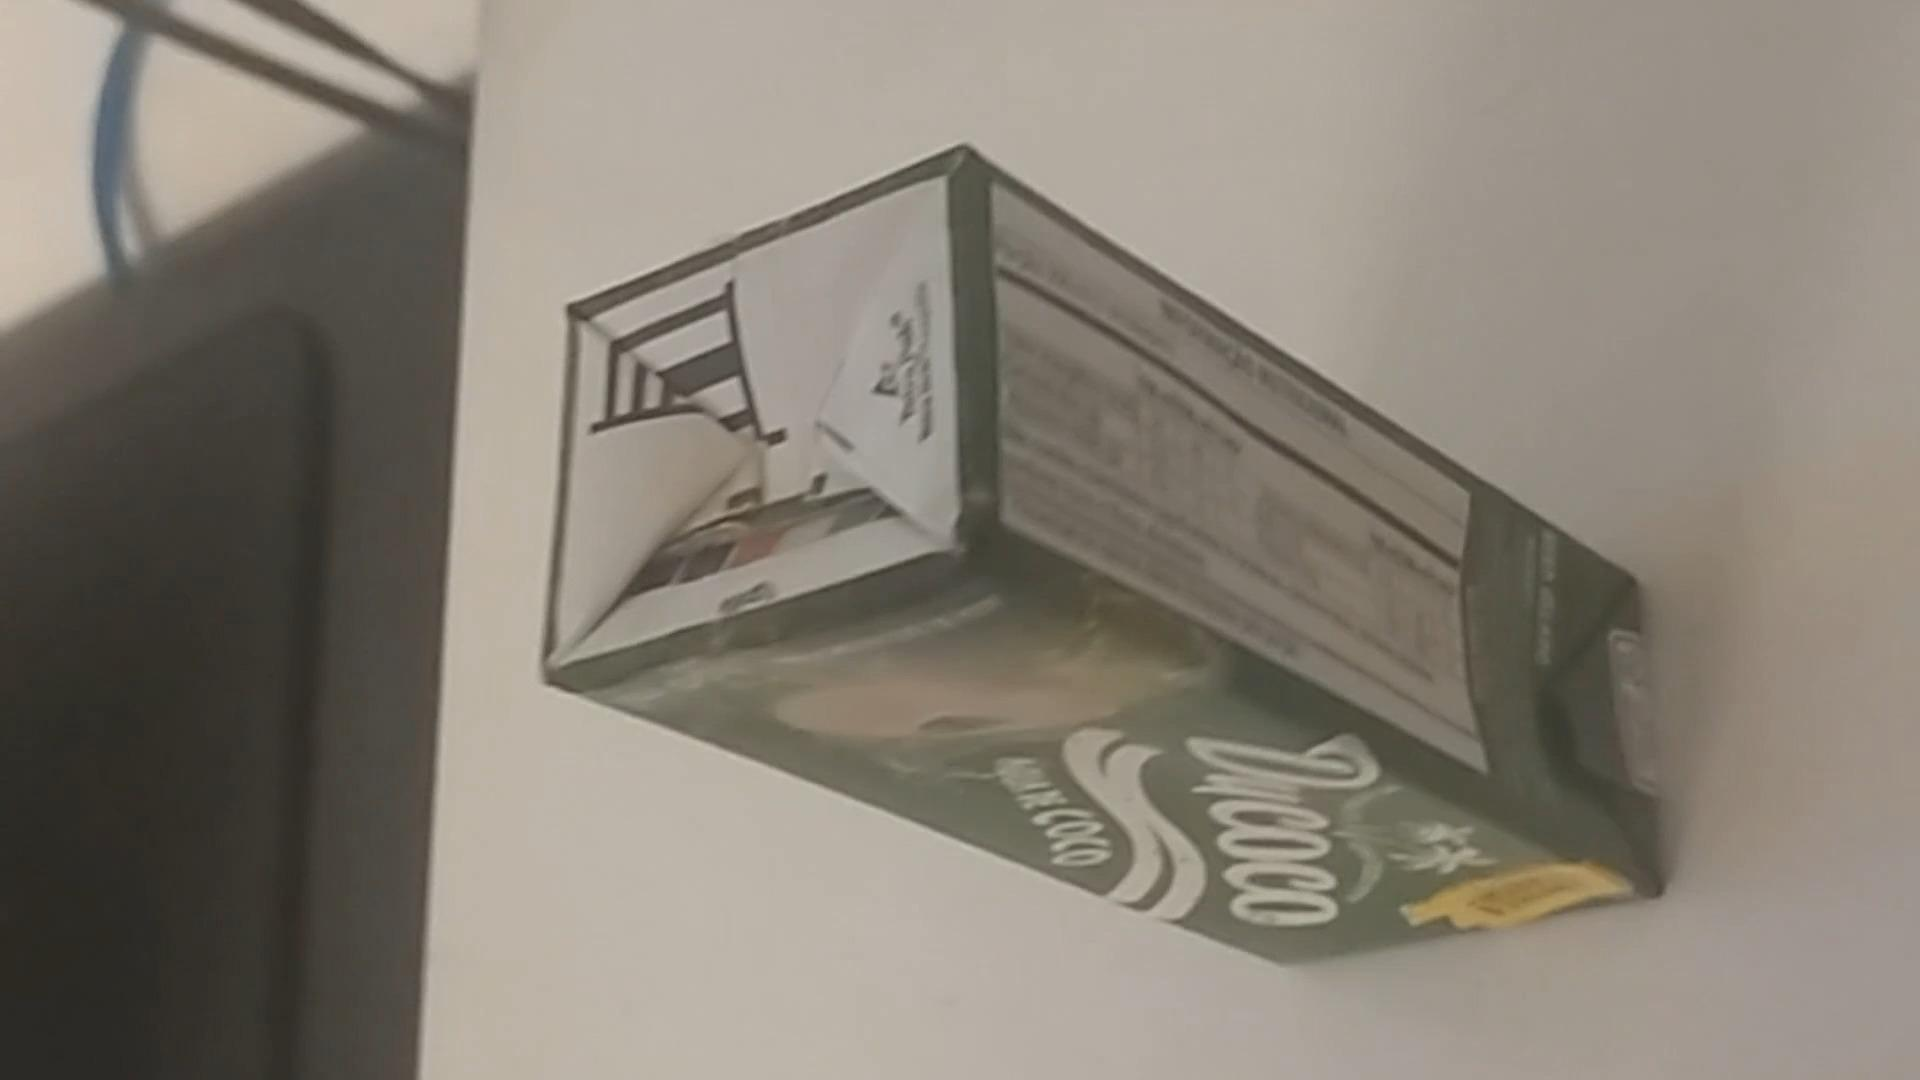coco: (543, 149, 1656, 967)
